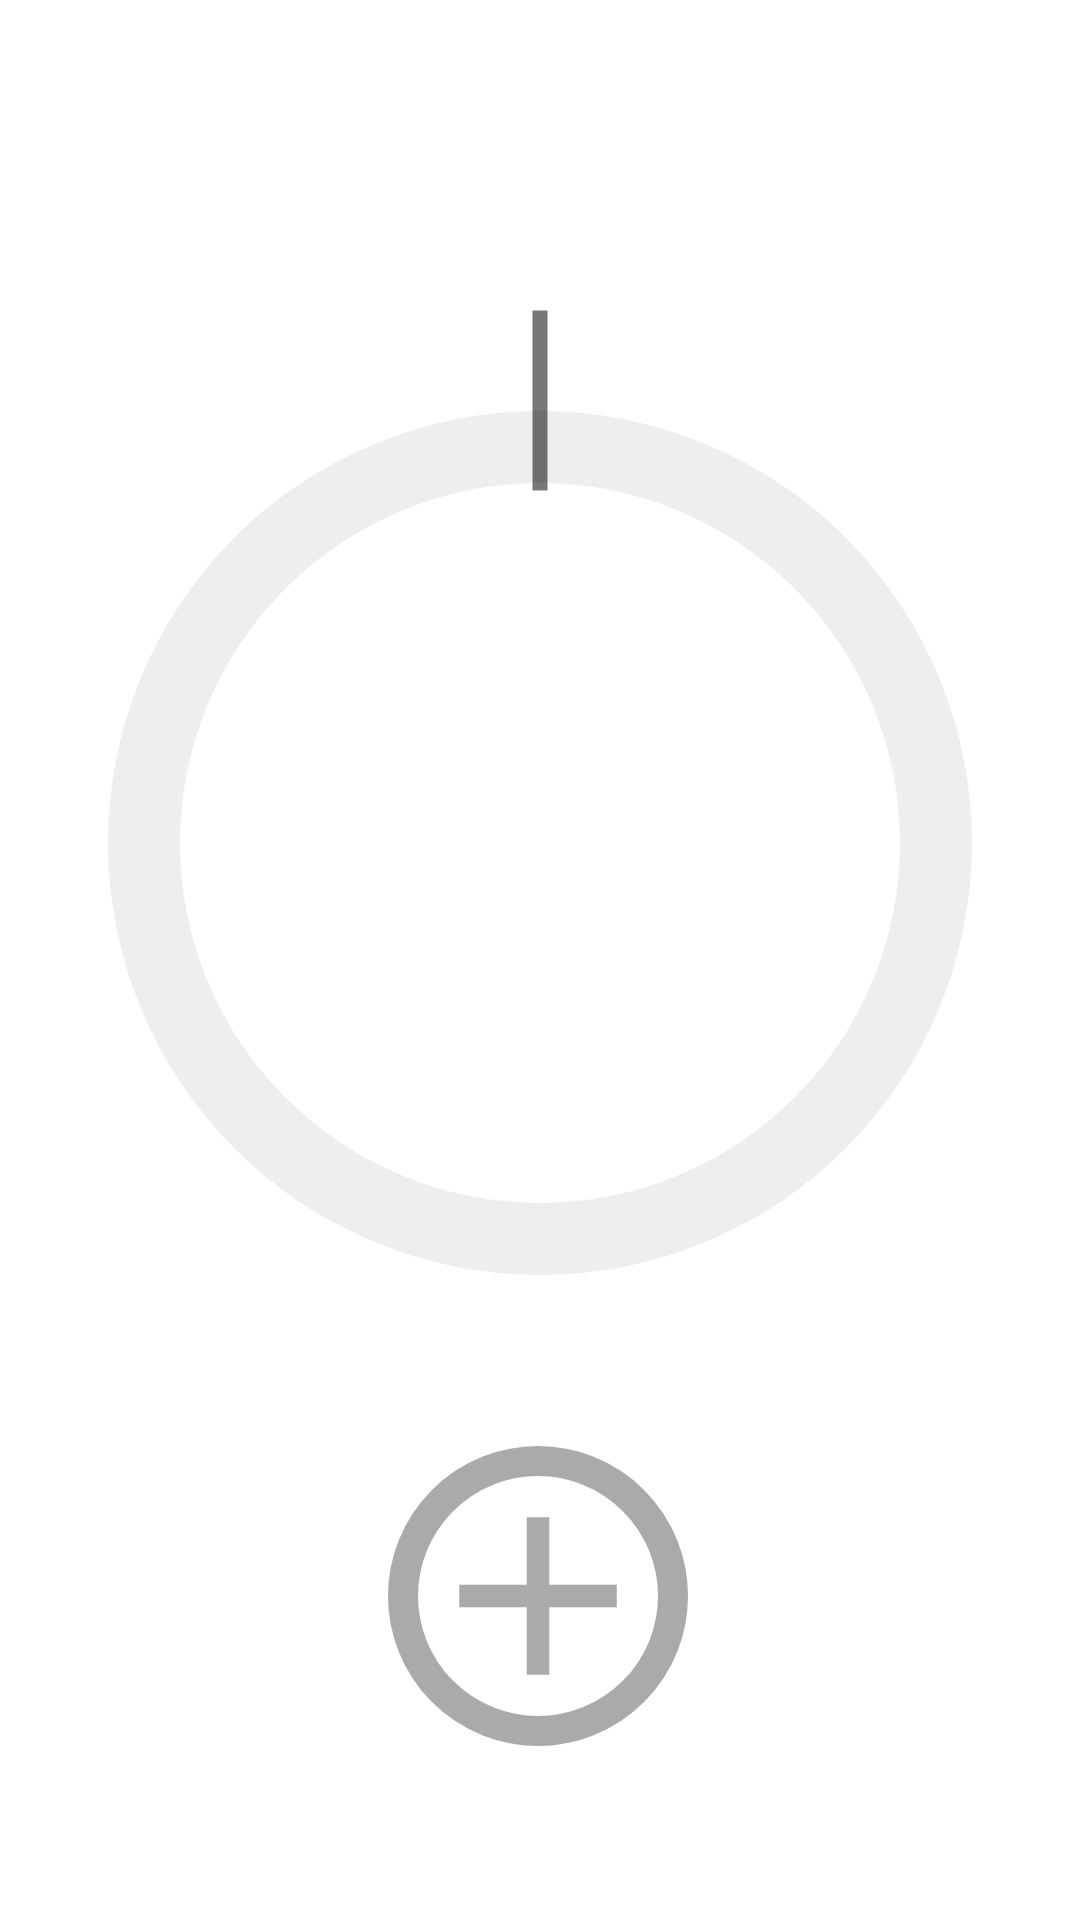

Named icons in this screenshot (1080px×1920px) and their bounding boxes, bbox(x1, y1, x2, y2):
add spend: bbox(388, 1446, 688, 1746)
